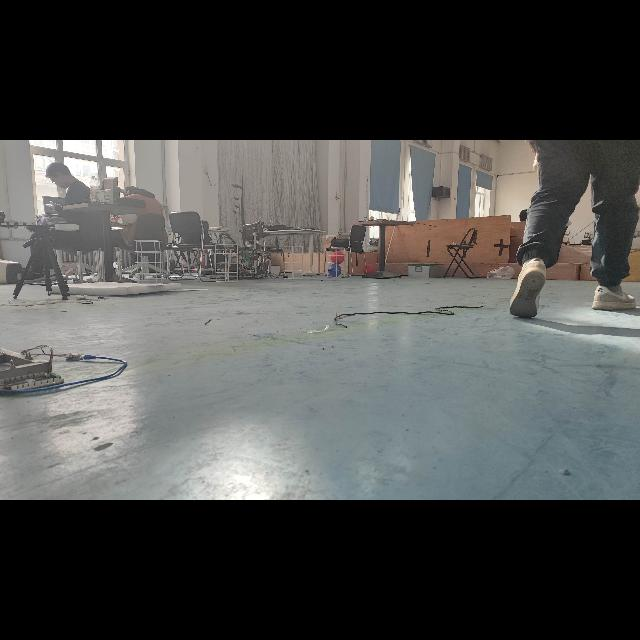B: (326, 264, 342, 276)
R: (331, 252, 345, 264)
S: (132, 237, 166, 287), (212, 240, 242, 286), (280, 243, 306, 281), (324, 243, 350, 280)
